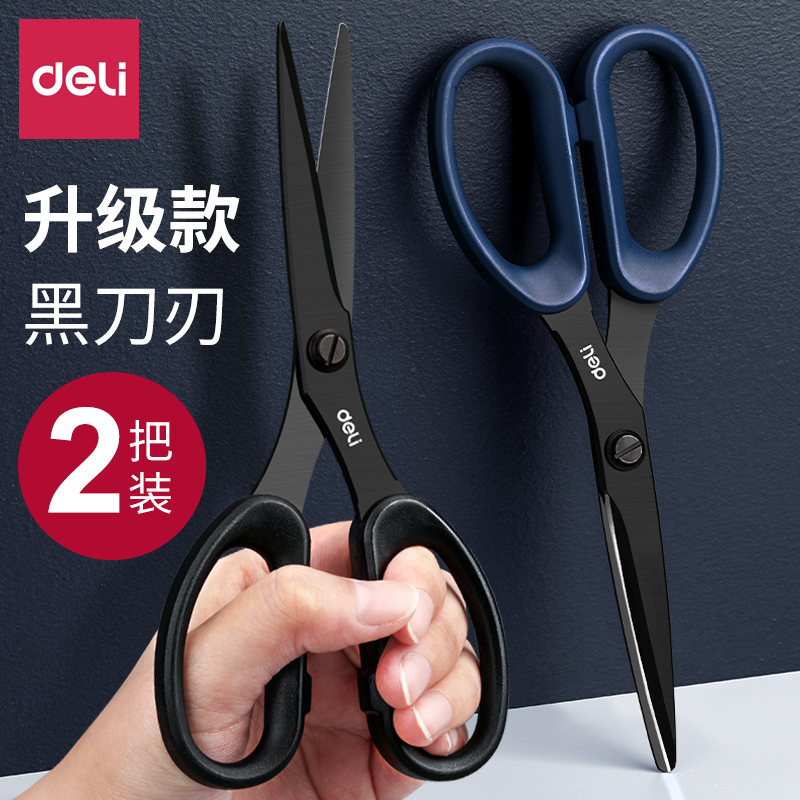scissors: (157, 10, 513, 787), (406, 23, 744, 783)
